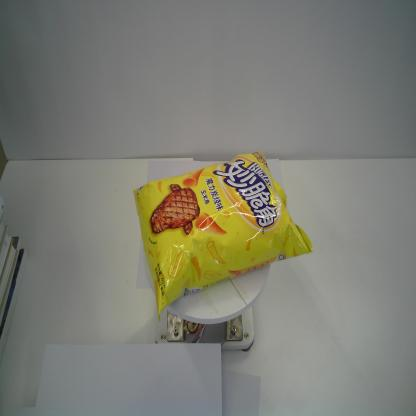Puffed Food: (132, 146, 315, 320)
